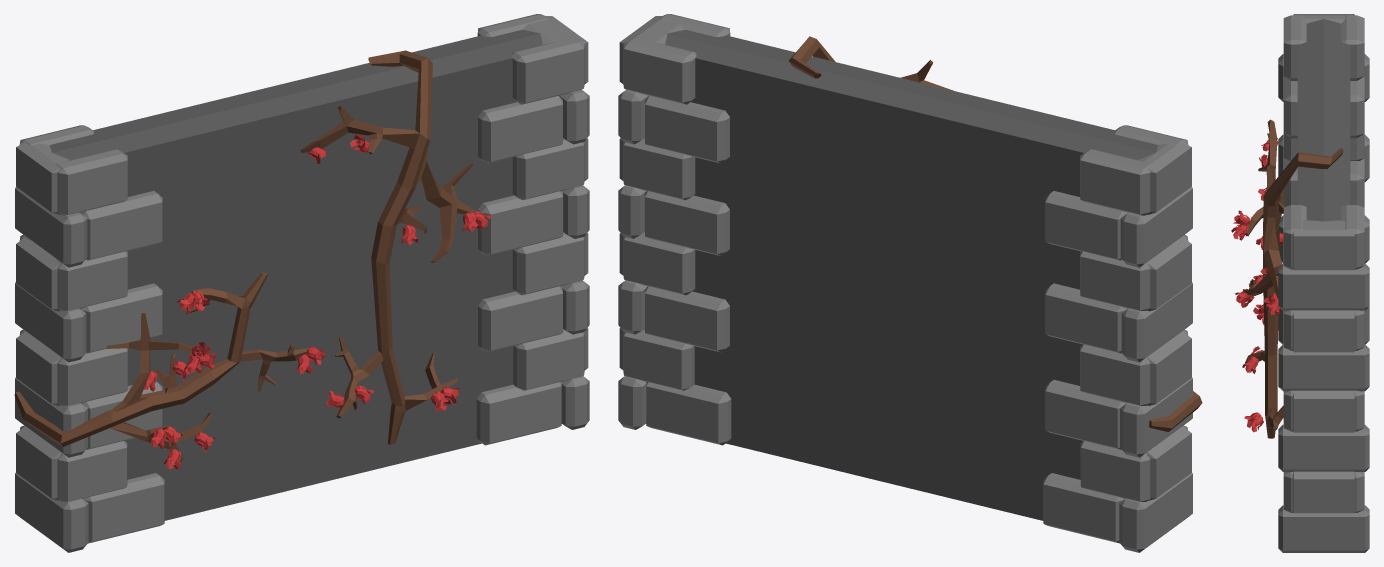
The model's file is DungeonWallFlowers.fbx.
3 views of the same model, side by side, from view 1: azimuth 30°, elevation 25°; view 2: azimuth 150°, elevation 25°; view 3: azimuth 270°, elevation 25° (orthographic). The views are drawn at different scales.
Parts seen in each view (by area): view 1: DungeonWallFlowers; view 2: DungeonWallFlowers; view 3: DungeonWallFlowers.
Part boxes in pixels (bbox=[...]): DungeonWallFlowers: bbox=[14, 14, 589, 552]; DungeonWallFlowers: bbox=[618, 14, 1202, 552]; DungeonWallFlowers: bbox=[1231, 14, 1369, 552].
Size of the model in its own units: 524 by 369 by 137.
Materials: 1 (1 with a texture image).
